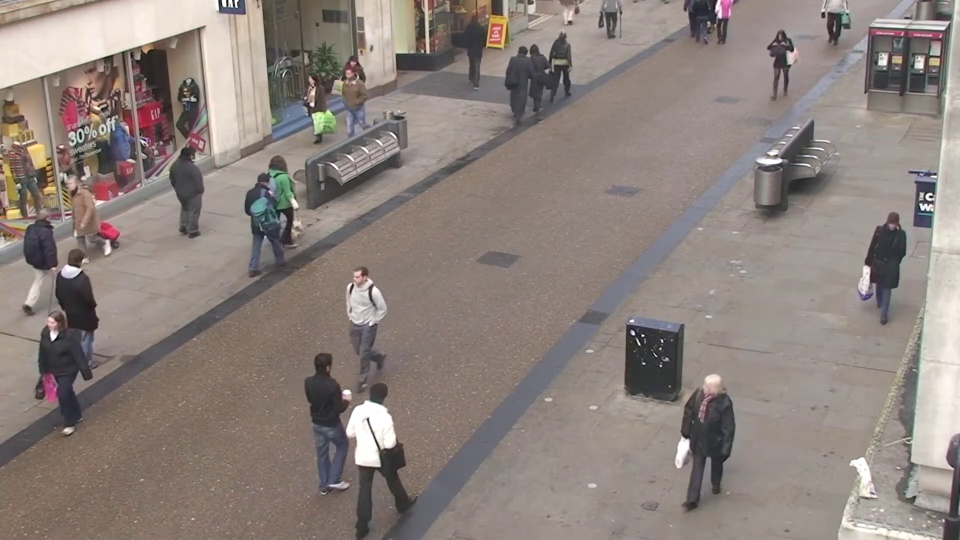pedestrian: (17, 312, 84, 458), (672, 372, 728, 534), (364, 364, 420, 522), (310, 339, 366, 491), (63, 238, 120, 363), (326, 262, 375, 396), (32, 196, 87, 311), (863, 211, 914, 334), (45, 173, 96, 281), (254, 163, 294, 270), (176, 139, 216, 238), (274, 151, 312, 255), (295, 73, 326, 156), (332, 64, 362, 145), (336, 55, 365, 133), (761, 28, 789, 101), (521, 41, 547, 115), (512, 40, 538, 114), (555, 23, 579, 92), (460, 12, 484, 79)
